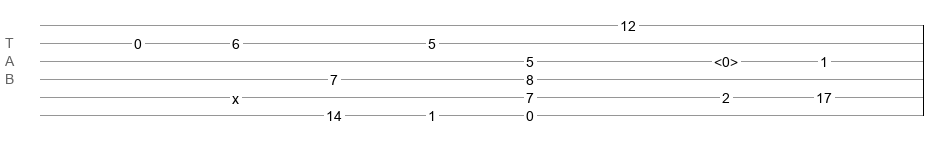0: (134, 36, 142, 46), (526, 108, 534, 118)
1: (428, 108, 436, 118), (820, 54, 828, 64)
12: (620, 18, 636, 28)
14: (326, 108, 342, 118)
17: (816, 90, 832, 100)
2: (722, 90, 730, 100)
5: (428, 36, 436, 46), (526, 54, 534, 64)
6: (232, 36, 240, 46)
7: (330, 72, 338, 82), (526, 90, 534, 100)
8: (526, 72, 534, 82)
harmonic: (714, 54, 738, 64)
x: (232, 91, 239, 99)
